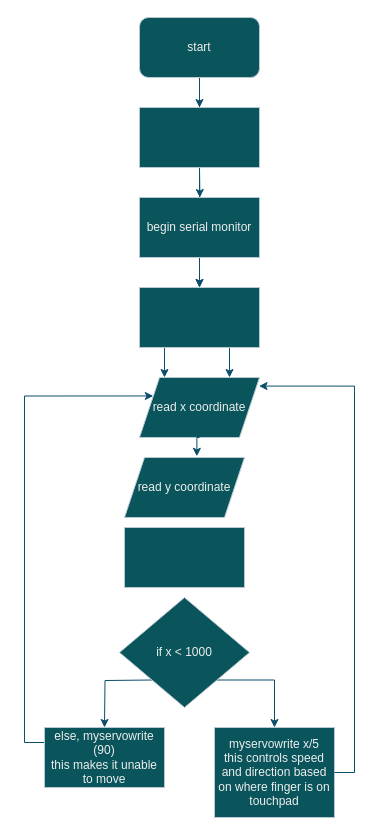
Image size: 380x835. Some labels were removed from this diagram. Here are the shapes that lost their labels. From the top down, the centre of each, then its label:
the point at 199,137: include libraries
the point at 199,317: attach servo to analog pin 4
the point at 184,557: serial print y serial print x
